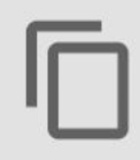ImgButton: (1, 1, 139, 159)
